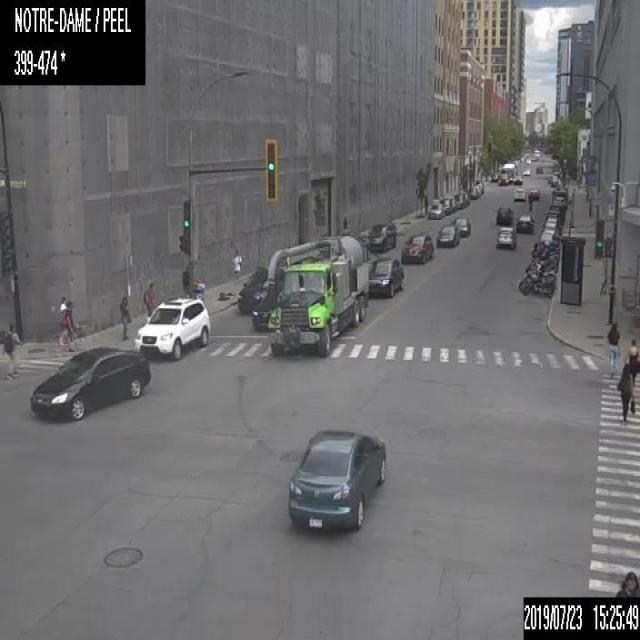bus: (501, 162, 516, 182)
cyclist: (527, 189, 533, 212)
pedestrian: (614, 363, 634, 422), (3, 321, 20, 379), (625, 336, 639, 393), (606, 319, 618, 377), (56, 293, 66, 352), (64, 297, 75, 350), (616, 571, 639, 596), (119, 292, 130, 341), (142, 277, 154, 315), (231, 248, 242, 287), (180, 264, 191, 299), (424, 195, 428, 213)
vehicle: (267, 233, 369, 357), (286, 426, 386, 530), (27, 346, 152, 418), (135, 294, 211, 362), (536, 188, 568, 244), (368, 255, 404, 299), (238, 264, 268, 312), (401, 231, 432, 263), (366, 220, 396, 252), (518, 272, 554, 298), (251, 296, 269, 332), (435, 222, 461, 246), (525, 262, 556, 282), (529, 253, 559, 272), (530, 242, 560, 260), (496, 226, 516, 249), (515, 213, 535, 234), (453, 213, 471, 235), (495, 204, 513, 226), (438, 197, 454, 214), (428, 201, 443, 218), (453, 193, 466, 208), (498, 172, 508, 185), (514, 188, 524, 201), (530, 187, 539, 201), (512, 173, 522, 185), (535, 165, 543, 173), (523, 168, 530, 175)
